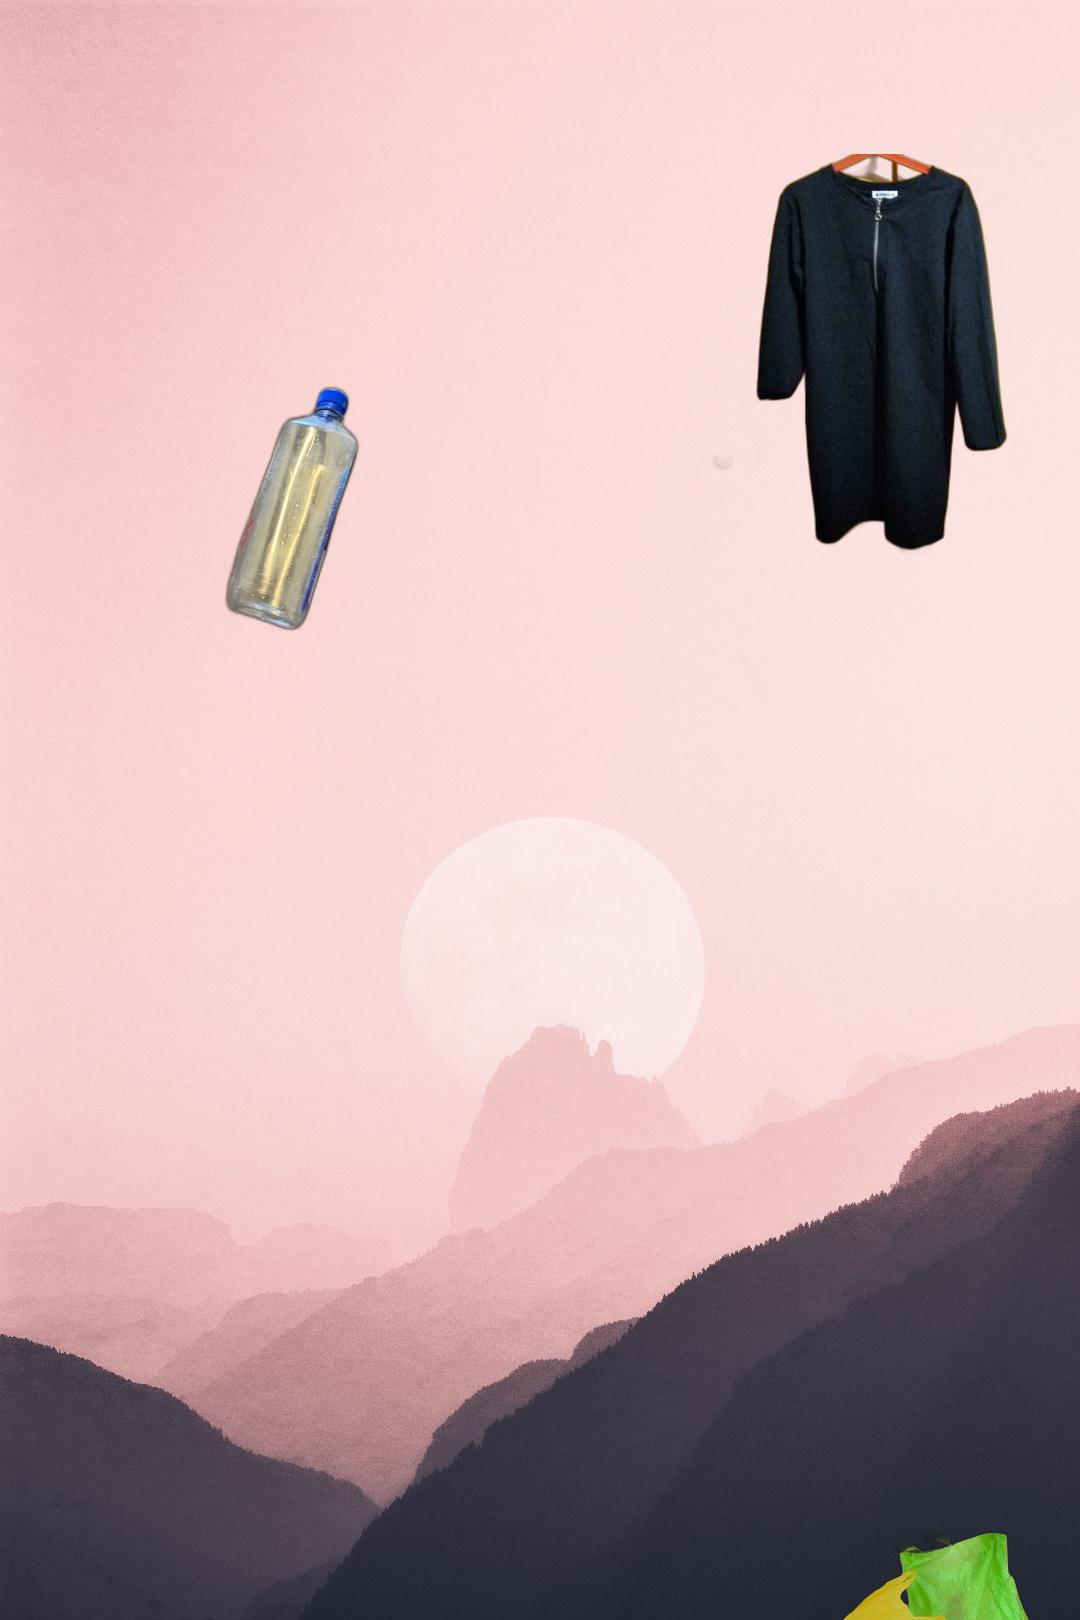clothes: (710, 154, 1011, 554)
penholder: (1063, 1364, 1080, 1620)
plastic-bag: (824, 1530, 1051, 1620)
plastic-bottles: (222, 381, 363, 636)
